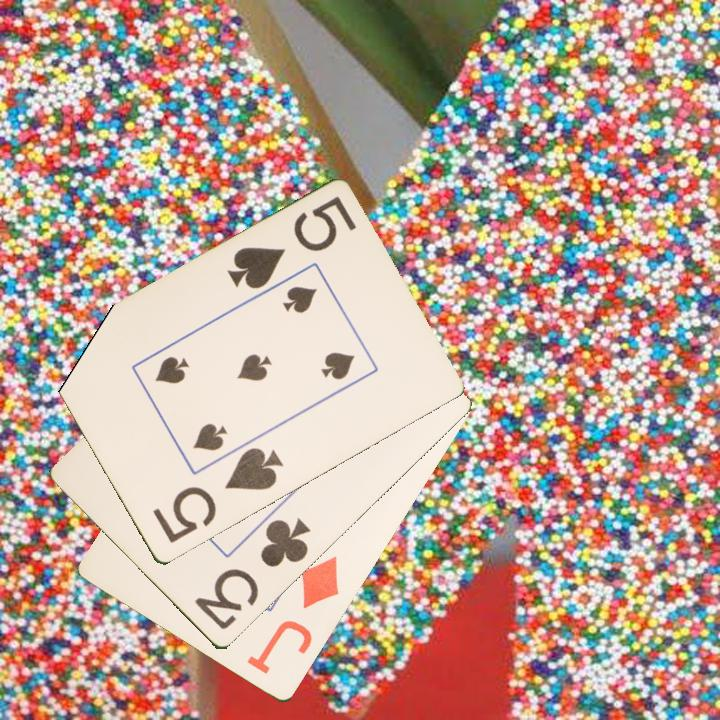3c: (190, 515, 314, 634)
5s: (149, 444, 286, 547), (223, 193, 359, 293)
Jd: (243, 552, 342, 678)
